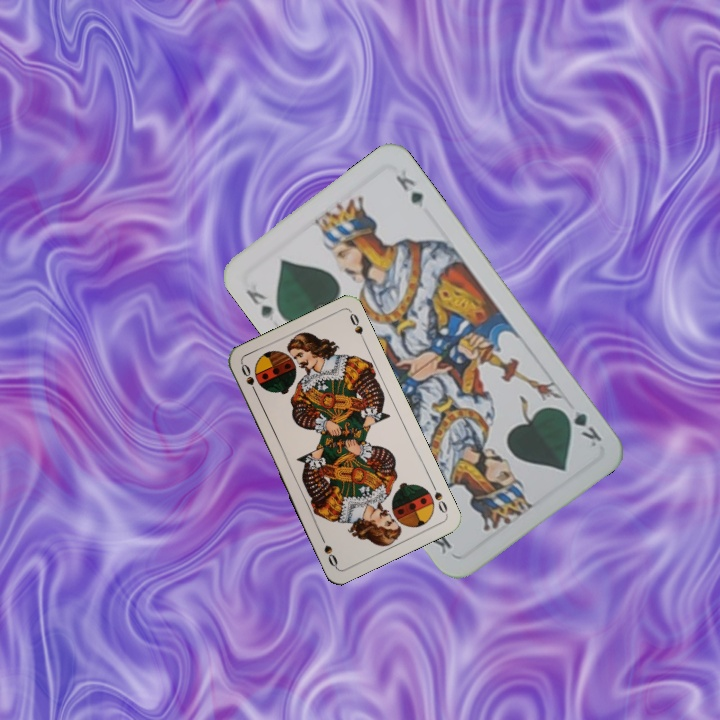GK: (557, 403, 605, 450), (242, 285, 276, 321)
SO: (237, 360, 260, 398), (427, 479, 450, 517)
